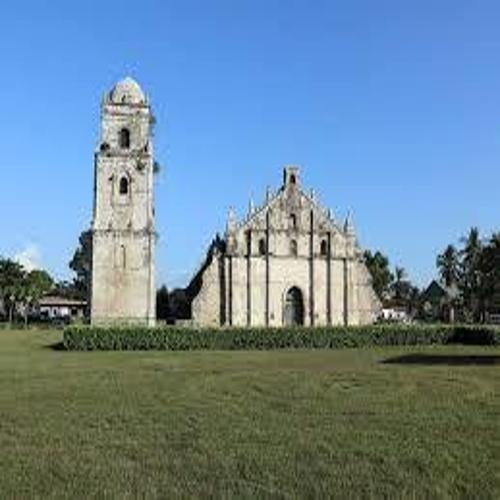Paoay Church: (75, 68, 393, 340)
